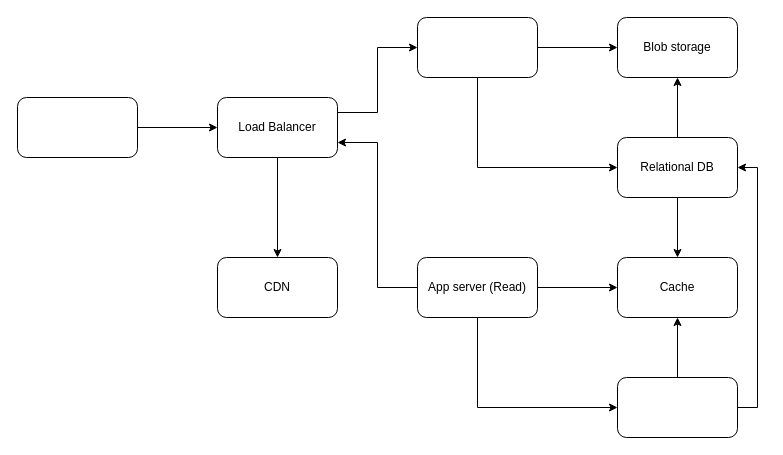
This 783x455 diagram has some shape labels left out. The shapes that lost their labels are listed below. From the top down, each one's centre as x and y in pixels, then its label:
At pixel 477 47: "App server (Write)".
At pixel 77 127: "User".
At pixel 677 407: "Timeline generation service".
